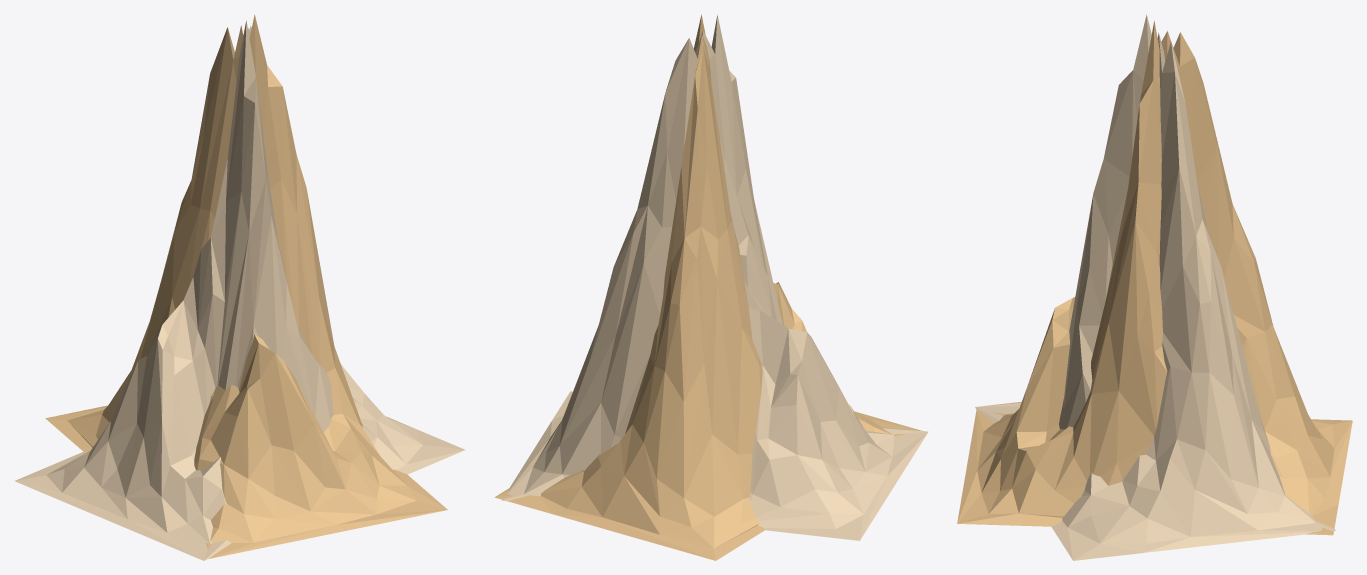
Rendered from mount2_00008.fbx.
3 views of the same model, side by side, from view 1: azimuth 30°, elevation 25°; view 2: azimuth 150°, elevation 25°; view 3: azimuth 270°, elevation 25° (orthographic).
Visible parts, largest first — view 1: mount2; view 2: mount2; view 3: mount2.
Boxes of the visible parts, x1,y1,x2,y2 form: mount2: [14, 14, 464, 560]; mount2: [494, 14, 928, 560]; mount2: [957, 14, 1352, 560].
Bounding box in the file's own units: 2732 × 3160 × 2485.
